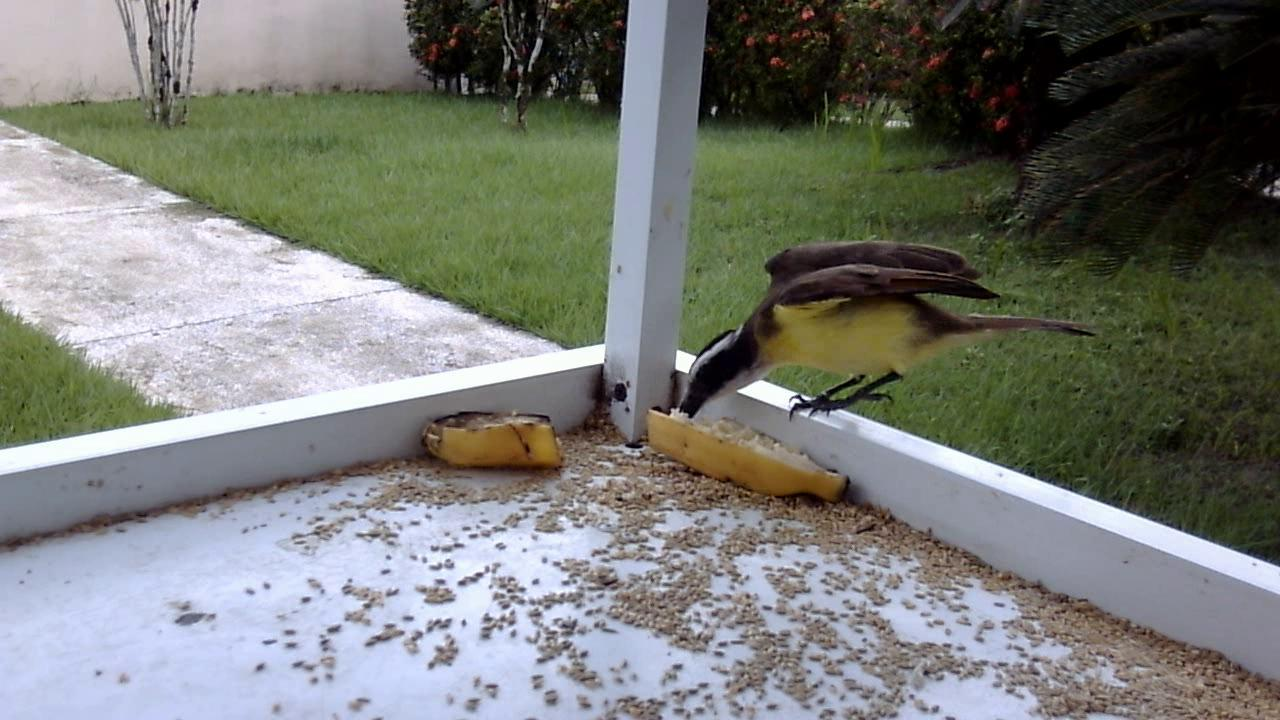bem_te_vi: (661, 238, 1104, 454)
